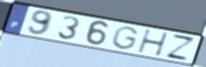3: (56, 16, 82, 41)
6: (84, 19, 111, 47)
9: (26, 10, 56, 37)
G: (109, 25, 141, 51)
H: (136, 29, 171, 58)
Z: (164, 33, 198, 63)
